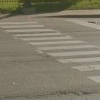crosswalk: (0, 22, 100, 81)
